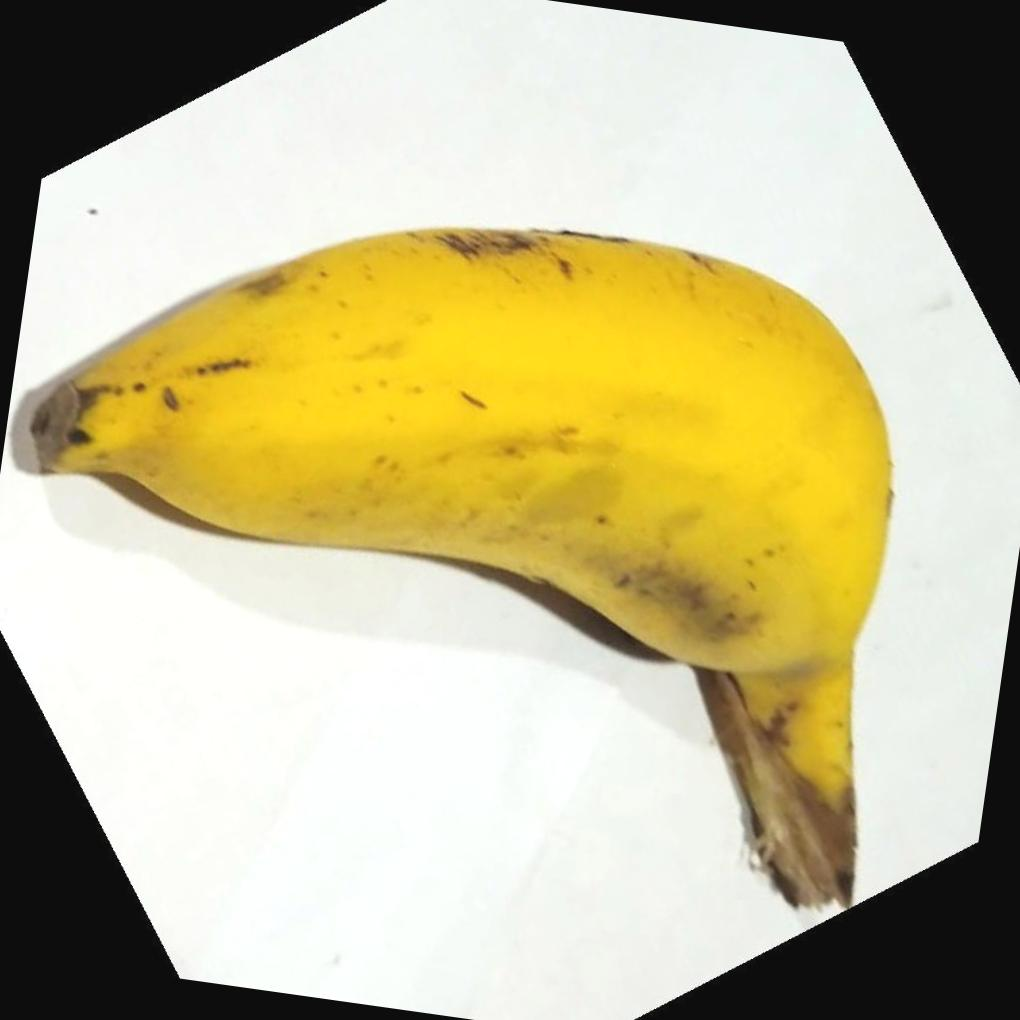Banana Ripe: (0, 124, 957, 1020)
